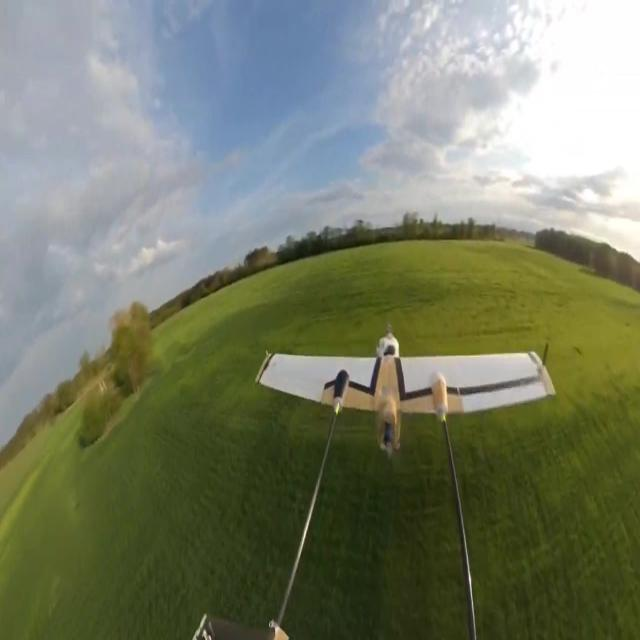iha: (254, 320, 558, 452)
